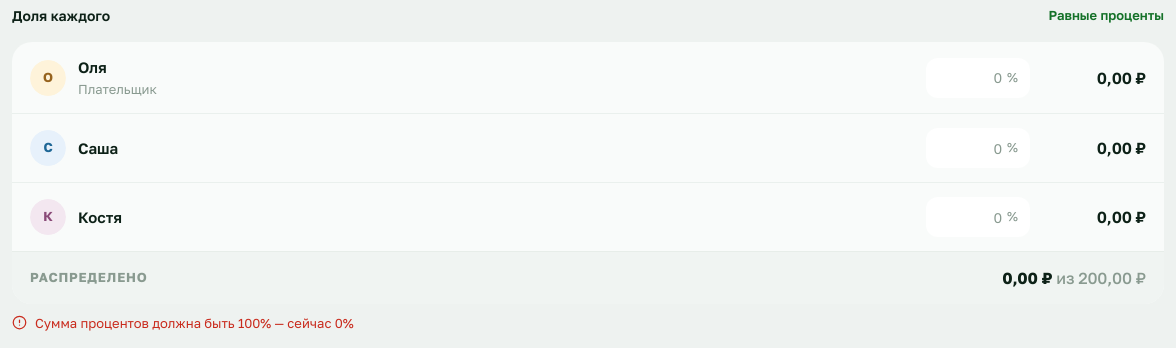
Scenario: SplitEditor — percentage mode › shows what each percentage is worth as it is typed
Type "50" into the field named "Процент: Оля" at [978, 78], box [926,58,1030,98]
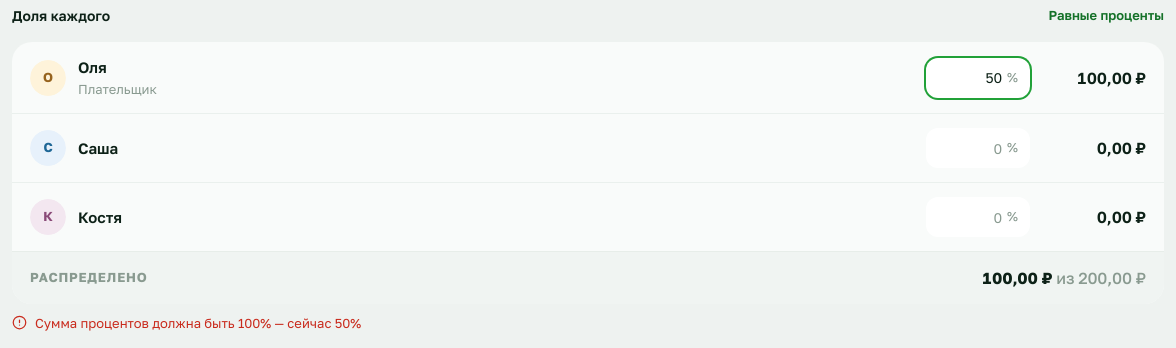
Type "30" into the field named "Процент: Саша" at [978, 148], box [926,128,1030,168]
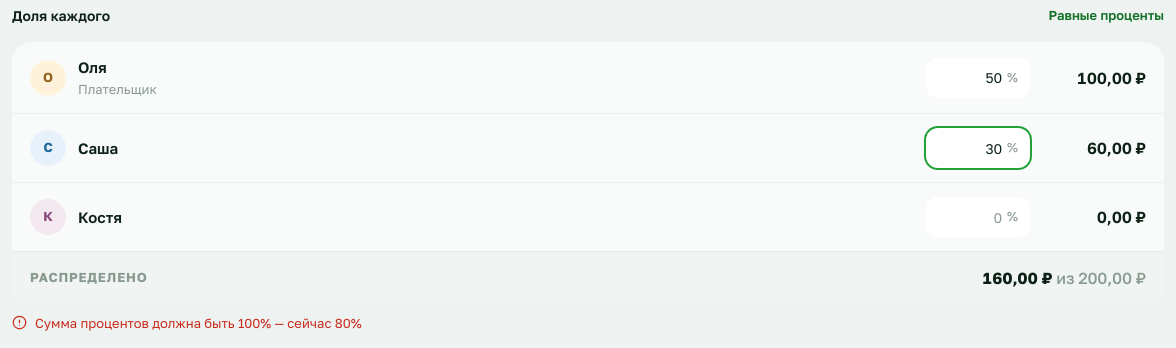
Type "20" into the field named "Процент: Костя" at [978, 217], box [926,197,1030,237]
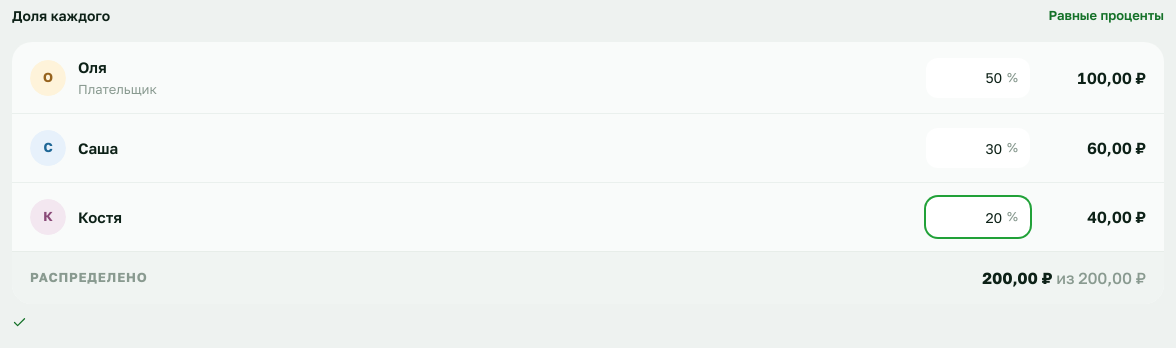
expect the text "100,00 ₽" is shown: met, box [1077,68,1146,88]
expect the text "60,00 ₽" is shown: met, box [1087,138,1146,158]
expect the text "40,00 ₽" is shown: met, box [1087,207,1146,227]
